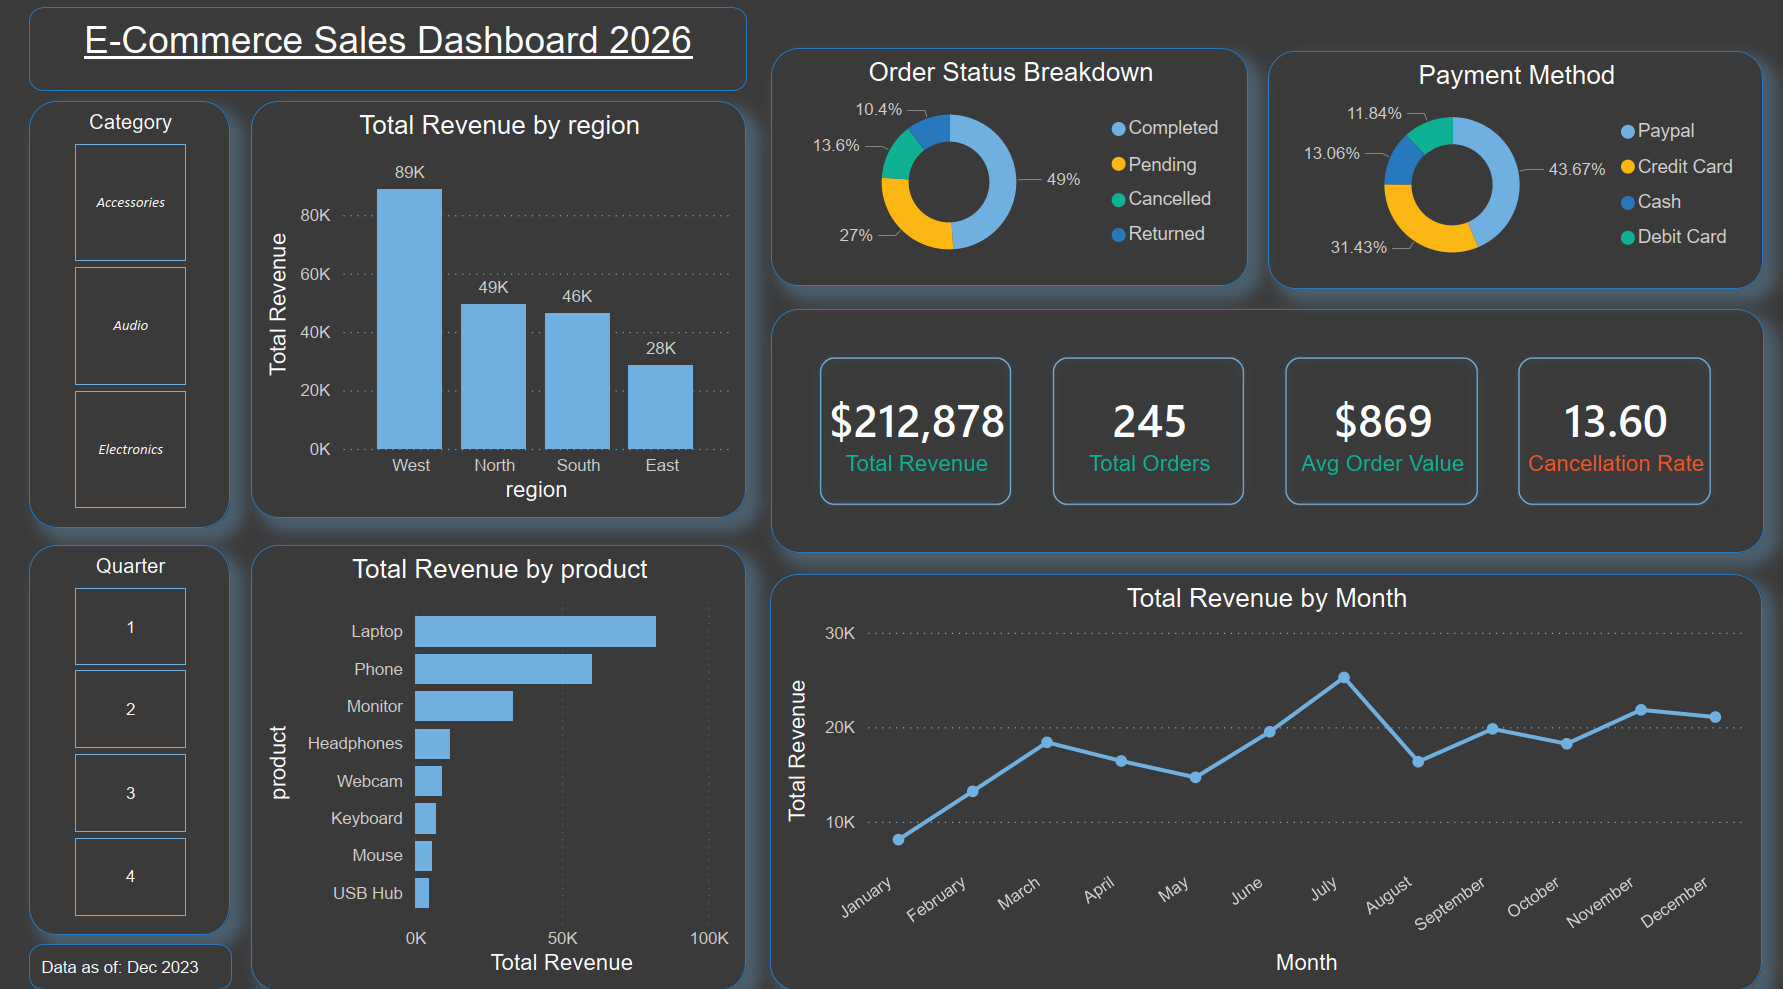

This screenshot's page, from the dashboard's own definition file:
{"tool":"powerbi","page":{"name":"Page 1","canvas":[1280,720],"ordinal":0},"visuals":[{"type":"cardVisual","fields":{"Data":["fact_orders.Total Revenue","fact_orders.Total Orders","fact_orders.Avg Order Value","fact_orders.Cancellation Rate"]},"box":[553.3,223.3,711.7,175],"z":0},{"type":"clusteredBarChart","fields":{"Y":["fact_orders.Total Revenue"],"Category":["dim_product.product"]},"box":[180,391.7,355,320],"z":1000},{"type":"clusteredColumnChart","fields":{"Category":["dim_location.region"],"Y":["fact_orders.Total Revenue"]},"box":[180,74,355,299],"z":2000},{"type":"lineChart","fields":{"Y":["fact_orders.Total Revenue"],"Category":["dim_date.order_date.Variation.Date Hierarchy.Month"]},"box":[551.7,413.3,711.7,298.3],"z":3000},{"type":"donutChart","title":"Payment Method","fields":{"Y":["fact_orders.Total Orders"],"Category":["dim_payment.payment_method"]},"box":[908.5,37.9,355.8,171.1],"z":4000},{"type":"donutChart","title":"Order Status Breakdown","fields":{"Category":["fact_orders.status"],"Y":["CountNonNull(fact_orders.order_id)"]},"box":[552.7,36.3,342.2,171.1],"z":5000},{"type":"slicer","title":"Category","fields":{"Values":["dim_product.category"]},"box":[21,74,144,306],"z":7000},{"type":"slicer","title":"Quarter","fields":{"Values":["dim_date.quarter"]},"box":[21,392,144,280],"z":8000},{"type":"textbox","box":[21.4,7.1,514.3,60],"z":8001},{"type":"textbox","box":[21,678,146,33],"z":8002}]}

Visuals, with their boxes in screenshot pixels (x1, y1, x2, y2), scaled from the page's 1280x720 canvas onto the 1783x989 screenshot:
cardVisual - fact_orders.Total Revenue x fact_orders.Total Orders: bbox=(771, 307, 1762, 547)
clusteredBarChart - fact_orders.Total Revenue x dim_product.product: bbox=(251, 538, 745, 978)
clusteredColumnChart - dim_location.region x fact_orders.Total Revenue: bbox=(251, 102, 745, 512)
lineChart - fact_orders.Total Revenue x dim_date.order_date.Variation.Date Hierarchy.Month: bbox=(769, 568, 1760, 977)
"Payment Method" donutChart: bbox=(1266, 52, 1761, 287)
"Order Status Breakdown" donutChart: bbox=(770, 50, 1247, 285)
"Category" slicer: bbox=(29, 102, 230, 522)
"Quarter" slicer: bbox=(29, 538, 230, 923)
textbox: bbox=(30, 10, 746, 92)
textbox: bbox=(29, 931, 233, 977)
